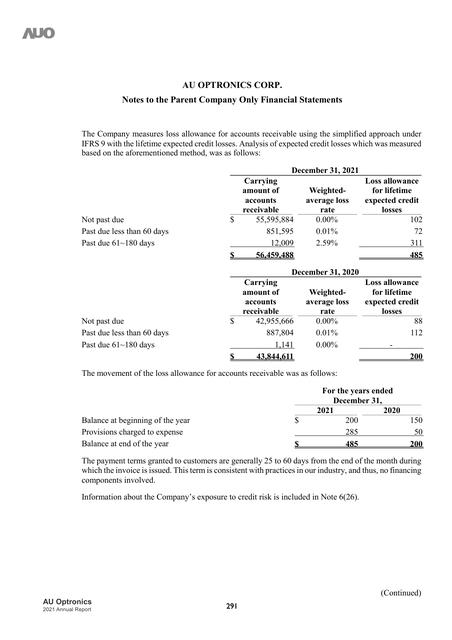box: (75, 164, 427, 264), (80, 266, 425, 366), (78, 385, 427, 452)
